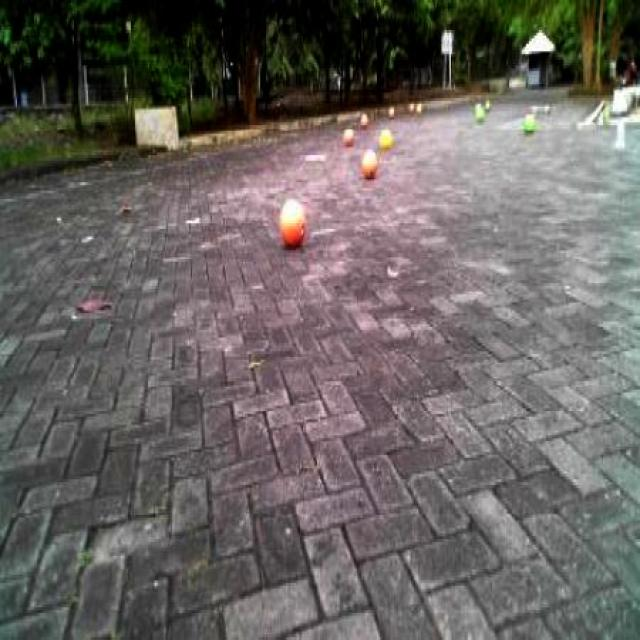buoy: (273, 186, 309, 258), (356, 140, 382, 184), (519, 107, 539, 143), (471, 94, 489, 129), (378, 120, 394, 152), (339, 118, 356, 148)
